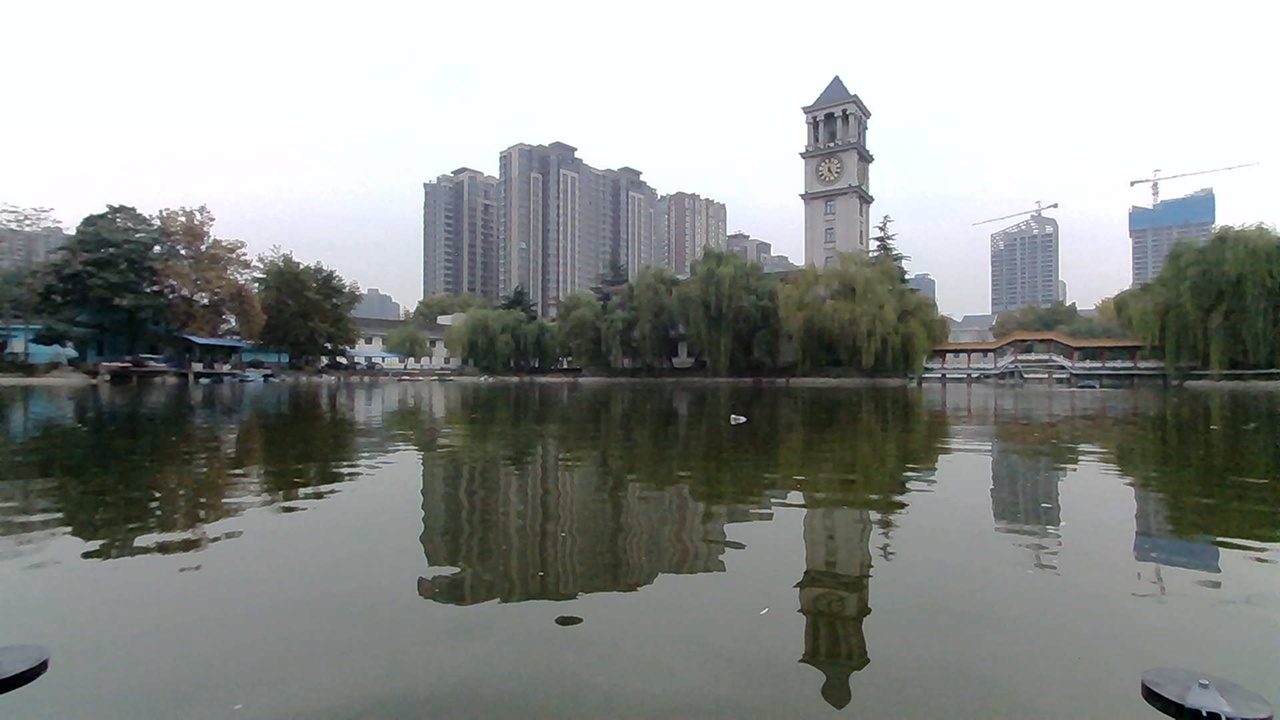bottle: (724, 402, 763, 432)
